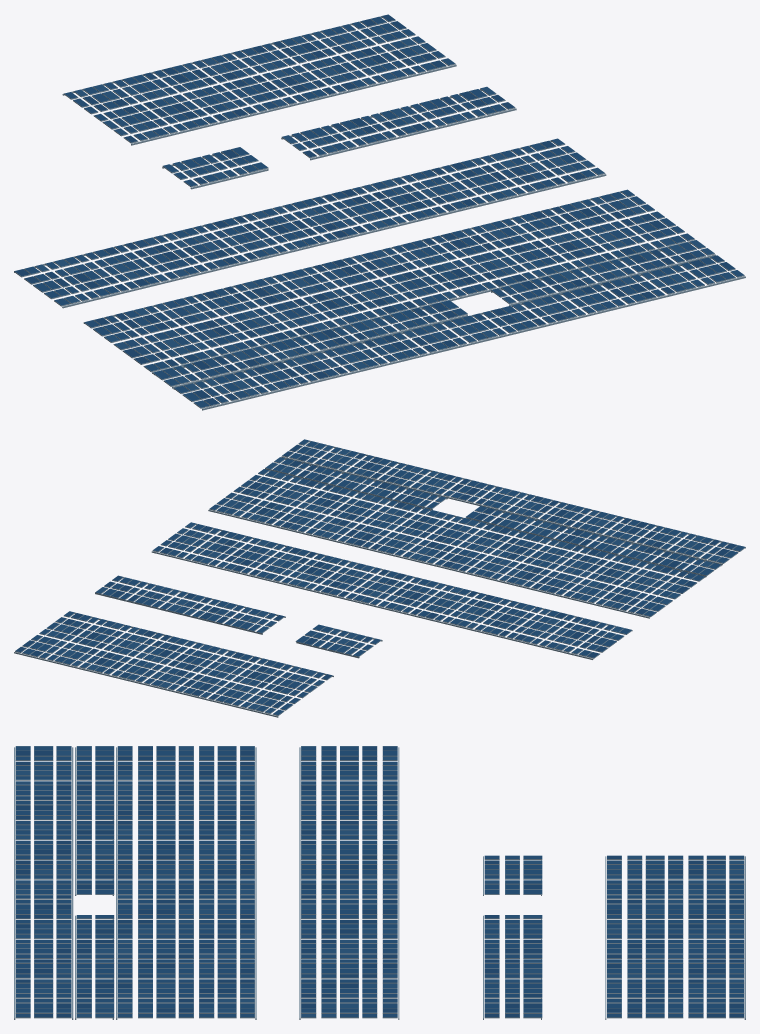
Rendered from SM_MPRH_SolarBank_00_0.fbx.
3 renders of one model, top to bottom at view 1: azimuth 30°, elevation 25°; view 2: azimuth 150°, elevation 25°; view 3: azimuth 270°, elevation 25°, orthographic. The views are drawn at different scales.
Visible parts, largest first — view 1: SM_MPRH_SolarBank_00_0; view 2: SM_MPRH_SolarBank_00_0; view 3: SM_MPRH_SolarBank_00_0.
Boxes of the visible parts, x1,y1,x2,y2 form: SM_MPRH_SolarBank_00_0: (14, 14, 745, 410); SM_MPRH_SolarBank_00_0: (14, 439, 745, 717); SM_MPRH_SolarBank_00_0: (14, 746, 745, 1019).
Size of the model in its own units: 6144 by 7002 by 24.6.
